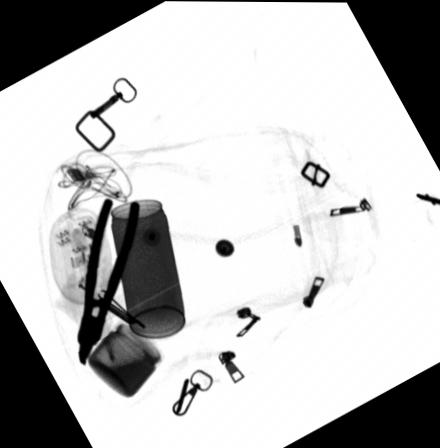Pliers: (76, 196, 140, 365)
